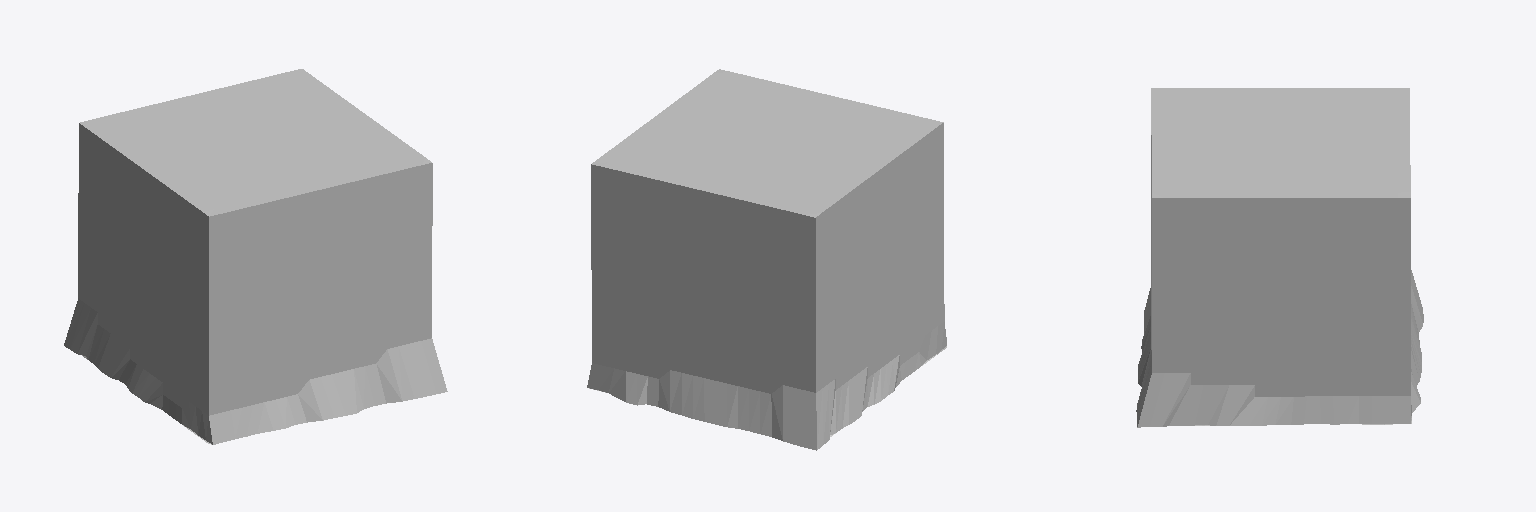
The model's file is mod0219.obj.
3 renders of one model, left to right at view 1: azimuth 30°, elevation 25°; view 2: azimuth 150°, elevation 25°; view 3: azimuth 270°, elevation 25°, orthographic.
Parts seen in each view (by area): view 1: Box001; view 2: Box001; view 3: Box001.
Part boxes in pixels (bbox=[...]): Box001: bbox=[64, 69, 447, 444]; Box001: bbox=[587, 69, 946, 450]; Box001: bbox=[1136, 88, 1423, 427].
Bounding box in the file's own units: 0.5799 × 0.5219 × 0.5979.